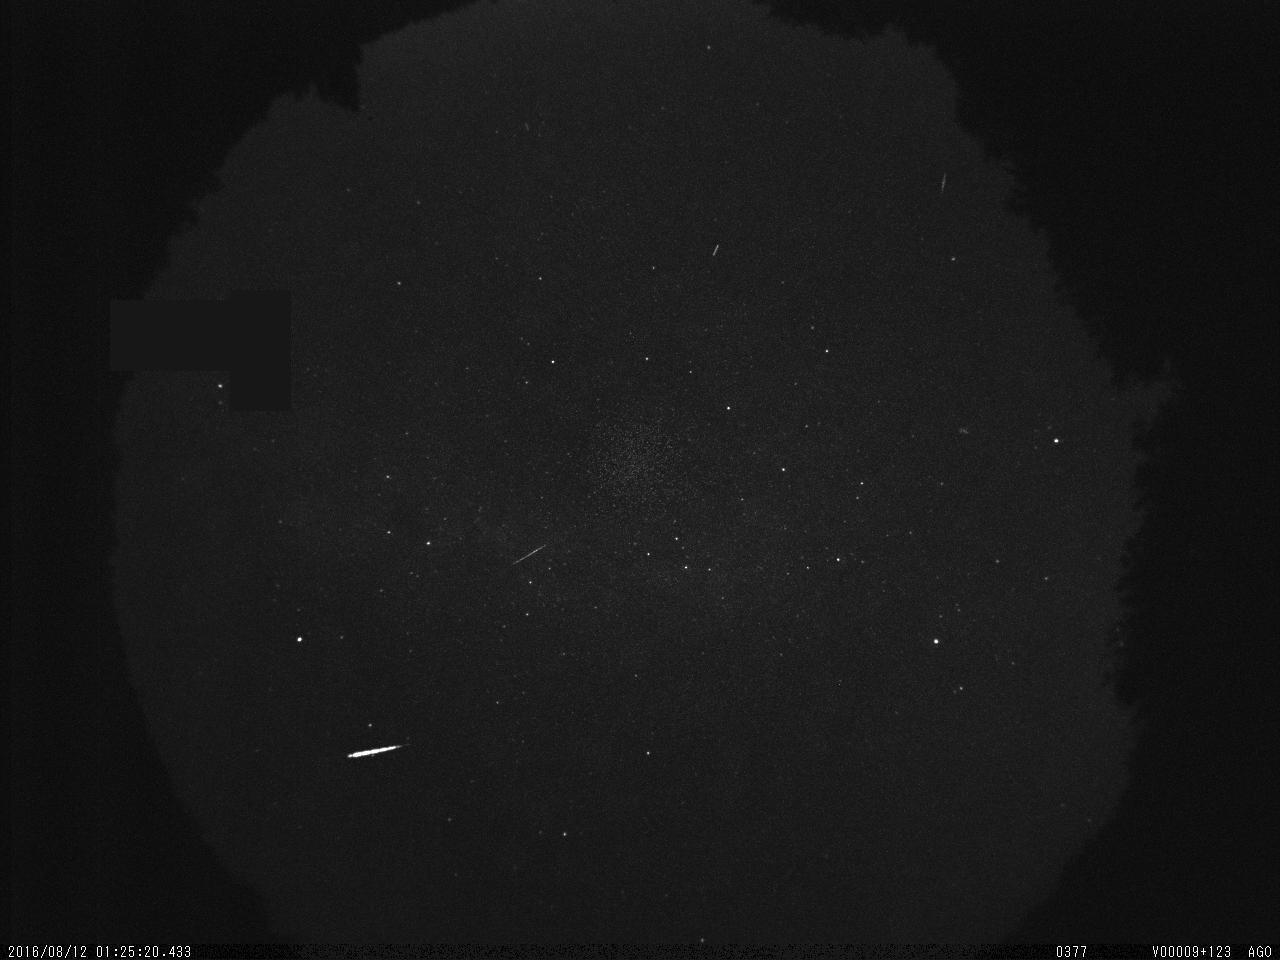meteor: (336, 729, 422, 772), (498, 536, 566, 573), (704, 230, 735, 270), (930, 163, 954, 207)
